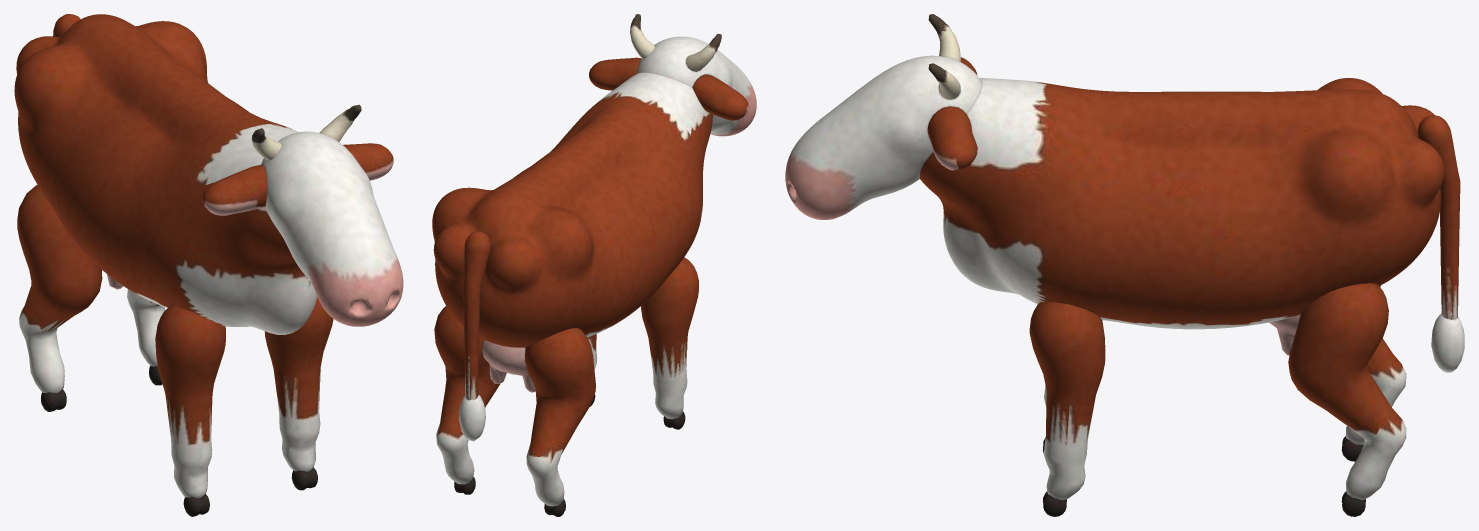
The model's file is animal_hereford.glb.
The picture shows the model from 3 angles, left to right: view 1: azimuth 30°, elevation 25°; view 2: azimuth 150°, elevation 25°; view 3: azimuth 270°, elevation 25°; orthographic projection. The views are drawn at different scales.
Visible parts, largest first — view 1: animal_hereford, head, leg2, leg0, leg1, leg3; view 2: animal_hereford, leg2, head, leg0, leg3, tail; view 3: animal_hereford, head, leg3, leg1, tail, leg2.
Boxes of the visible parts, x1,y1,x2,y2 form: animal_hereford: (14,14,317,334); head: (202,104,403,326); leg2: (17,185,102,411); leg0: (155,305,225,516); leg1: (264,297,333,490); leg3: (127,289,165,385); animal_hereford: (432,72,712,392); leg2: (525,328,595,516); head: (589,14,756,136); leg0: (641,257,698,429); leg3: (434,306,500,494); tail: (459,231,490,441); animal_hereford: (920,78,1444,355); head: (785,14,981,219); leg3: (1288,283,1406,516); leg1: (1029,302,1105,516); tail: (1417,115,1464,372); leg2: (1341,285,1406,461).
Bounding box in the file's own units: 0.2778 × 0.5896 × 0.8126.
1 material, 1 textured.
